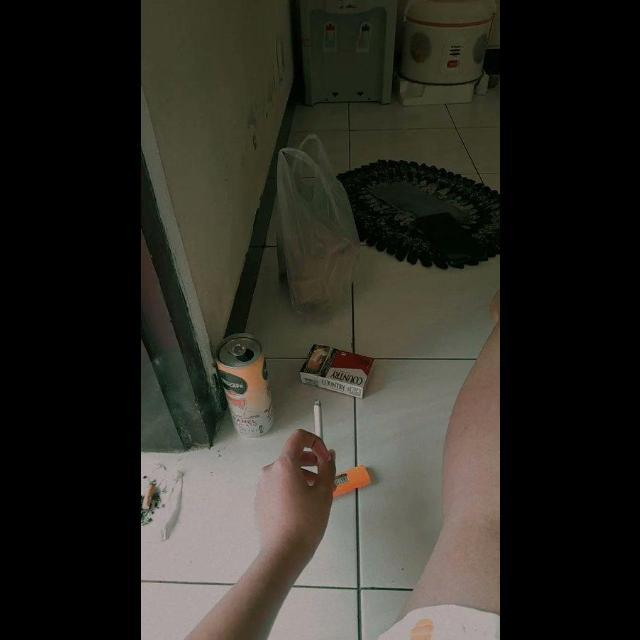rokok: (312, 398, 324, 439)
